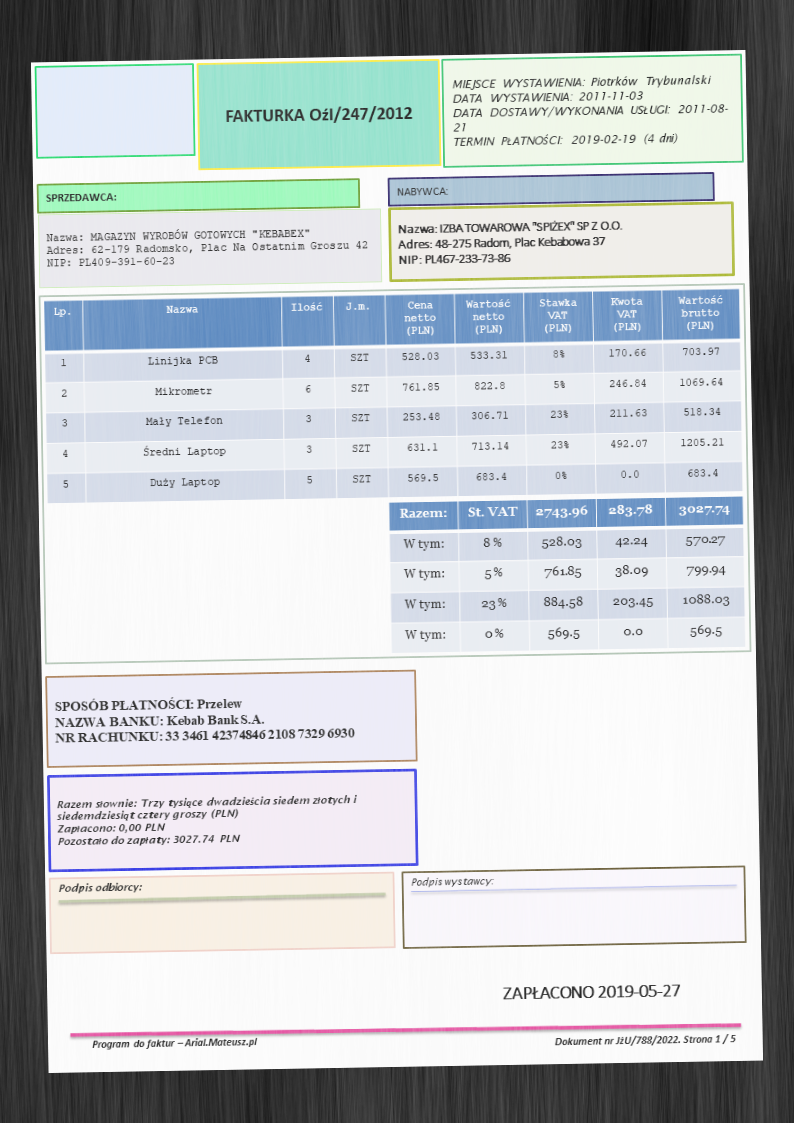Table: (42, 286, 743, 504), (388, 496, 746, 654)
TextBox: (448, 71, 730, 150), (55, 792, 361, 849), (53, 691, 356, 746), (44, 226, 369, 270), (395, 219, 623, 267), (223, 103, 415, 127), (500, 979, 684, 1002), (552, 1031, 738, 1049), (88, 1034, 261, 1052), (55, 880, 143, 896), (43, 190, 118, 206), (410, 874, 494, 888), (393, 183, 449, 200)
